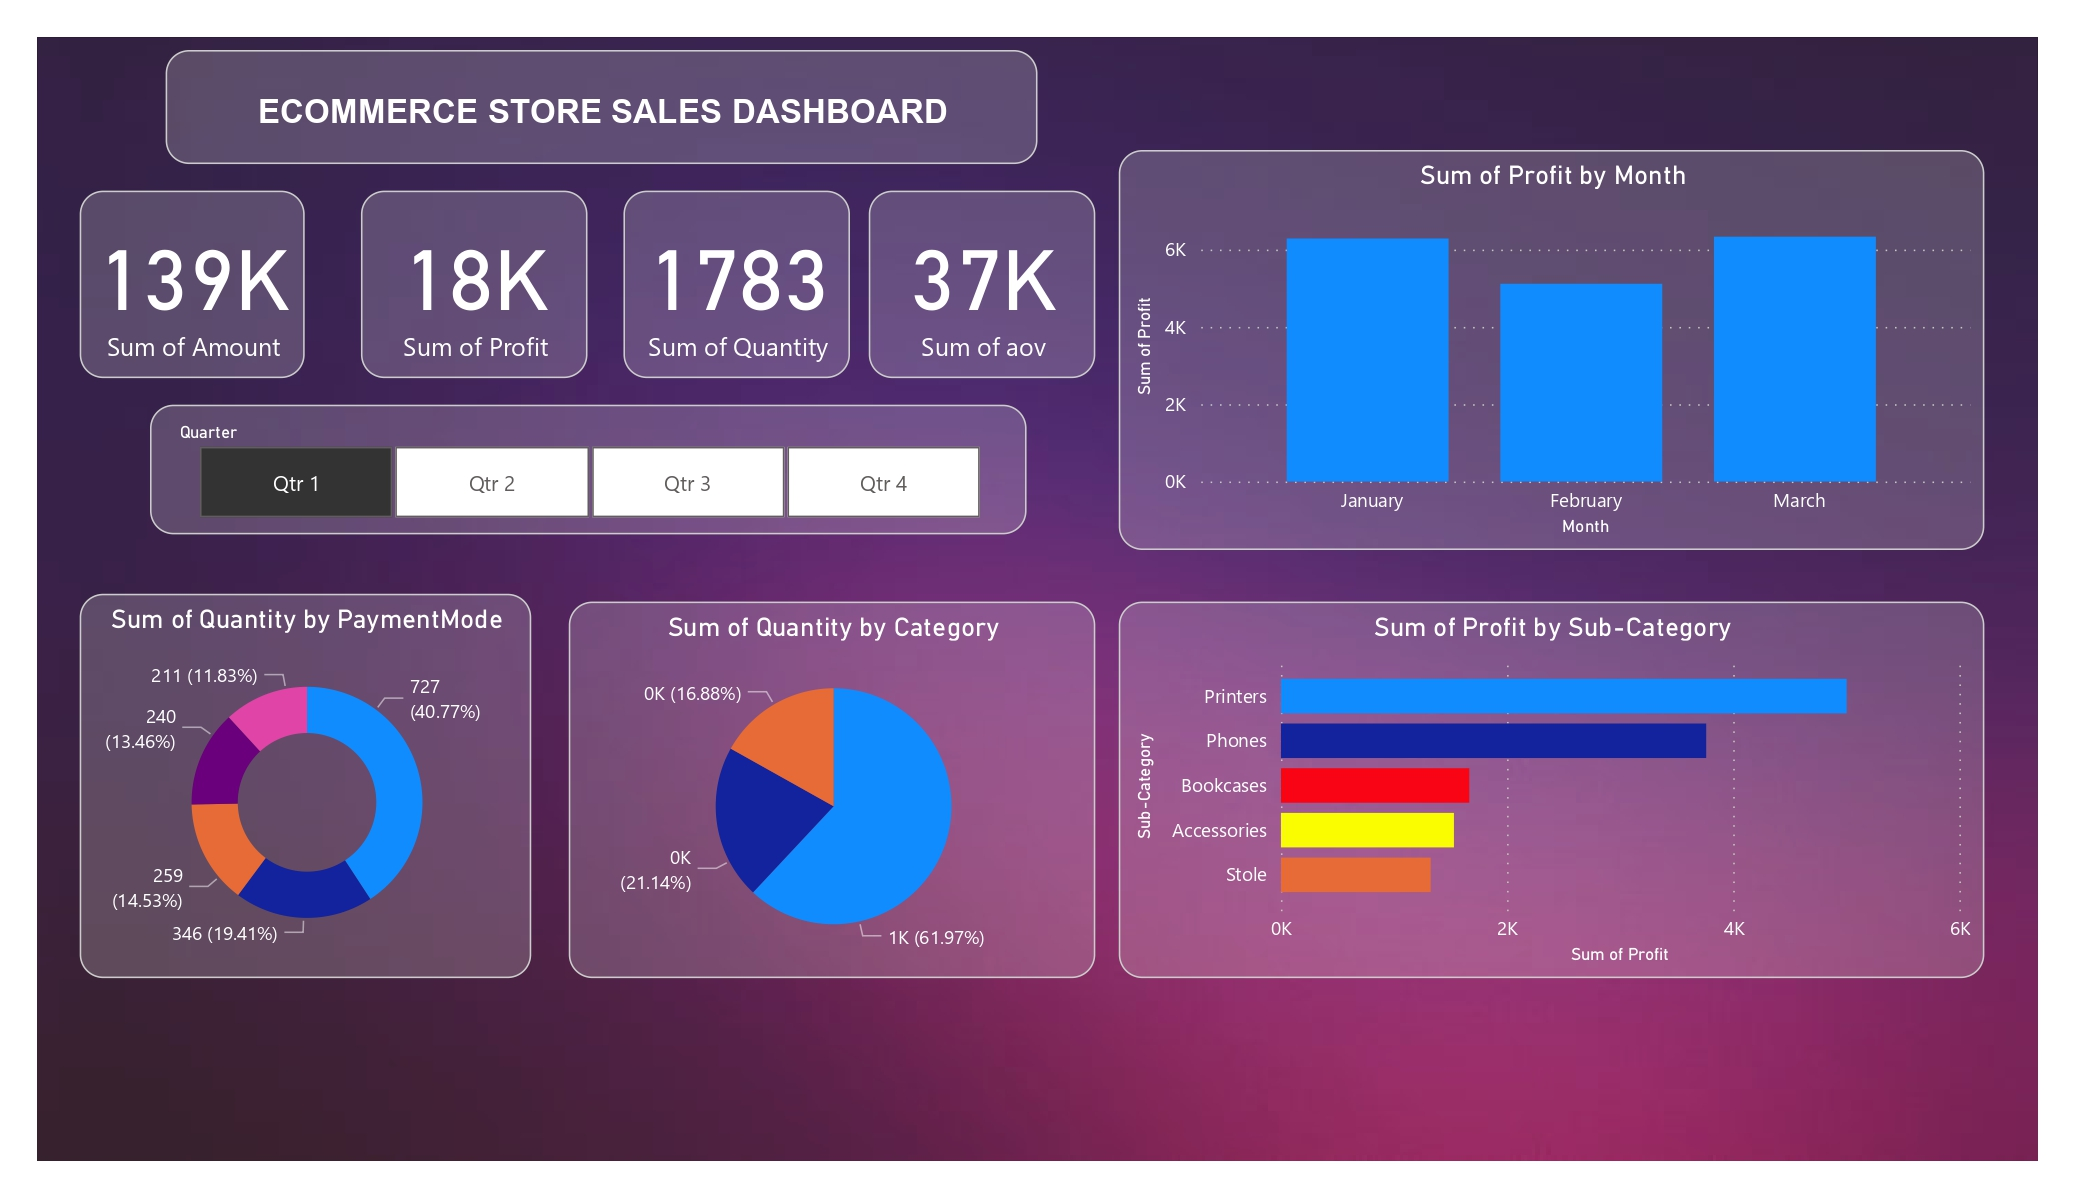

The page's visual inventory and layout, read from the dashboard file:
{"tool":"powerbi","page":{"name":"Page 1","canvas":[1280,720],"ordinal":0},"visuals":[{"type":"textbox","box":[82,8.4,558.4,72.4],"z":0},{"type":"columnChart","fields":{"Y":["Sum(Details.Profit)"],"Category":["Orders.Order Date.Variation.Date Hierarchy.Month"]},"box":[692.3,72.4,553.6,255.7],"z":1000},{"type":"barChart","fields":{"Category":["Details.Sub-Category"],"Y":["Sum(Details.Profit)"]},"box":[692.3,360.6,553.6,241.2],"z":2000},{"type":"pieChart","fields":{"Category":["Details.Category"],"Y":["Sum(Details.Quantity)"]},"box":[340.1,360.6,336.5,241.2],"z":3000},{"type":"donutChart","fields":{"Category":["Details.PaymentMode"],"Y":["Sum(Details.Quantity)"]},"box":[26.5,355.8,289.4,246],"z":4000},{"type":"card","fields":{"Values":["Sum(Details.Profit)"]},"box":[207.4,97.7,144.7,120.6],"z":5000},{"type":"card","fields":{"Values":["Sum(Details.Amount)"]},"box":[26.5,97.7,144.7,120.6],"z":6000},{"type":"card","fields":{"Values":["Sum(Details.Quantity)"]},"box":[375.1,97.7,144.7,120.6],"z":7000},{"type":"card","fields":{"Values":["Sum(Details.aov)"]},"box":[531.9,97.7,144.7,120.6],"z":8000},{"type":"slicer","fields":{"Values":["Orders.Order Date.Variation.Date Hierarchy.Quarter"]},"box":[72.4,235.2,560.8,83.2],"z":9000}]}

Visuals, with their boxes in screenshot pixels (x1, y1, x2, y2):
textbox: (left=166, top=51, right=1038, bottom=164)
columnChart - Sum(Details.Profit) x Orders.Order Date.Variation.Date Hierarchy.Month: (left=1119, top=151, right=1984, bottom=550)
barChart - Details.Sub-Category x Sum(Details.Profit): (left=1119, top=601, right=1984, bottom=978)
pieChart - Details.Category x Sum(Details.Quantity): (left=569, top=601, right=1095, bottom=978)
donutChart - Details.PaymentMode x Sum(Details.Quantity): (left=79, top=593, right=531, bottom=978)
card - Sum(Details.Profit): (left=362, top=190, right=588, bottom=379)
card - Sum(Details.Amount): (left=79, top=190, right=305, bottom=379)
card - Sum(Details.Quantity): (left=624, top=190, right=850, bottom=379)
card - Sum(Details.aov): (left=869, top=190, right=1095, bottom=379)
slicer - Orders.Order Date.Variation.Date Hierarchy.Quarter: (left=151, top=405, right=1027, bottom=535)
